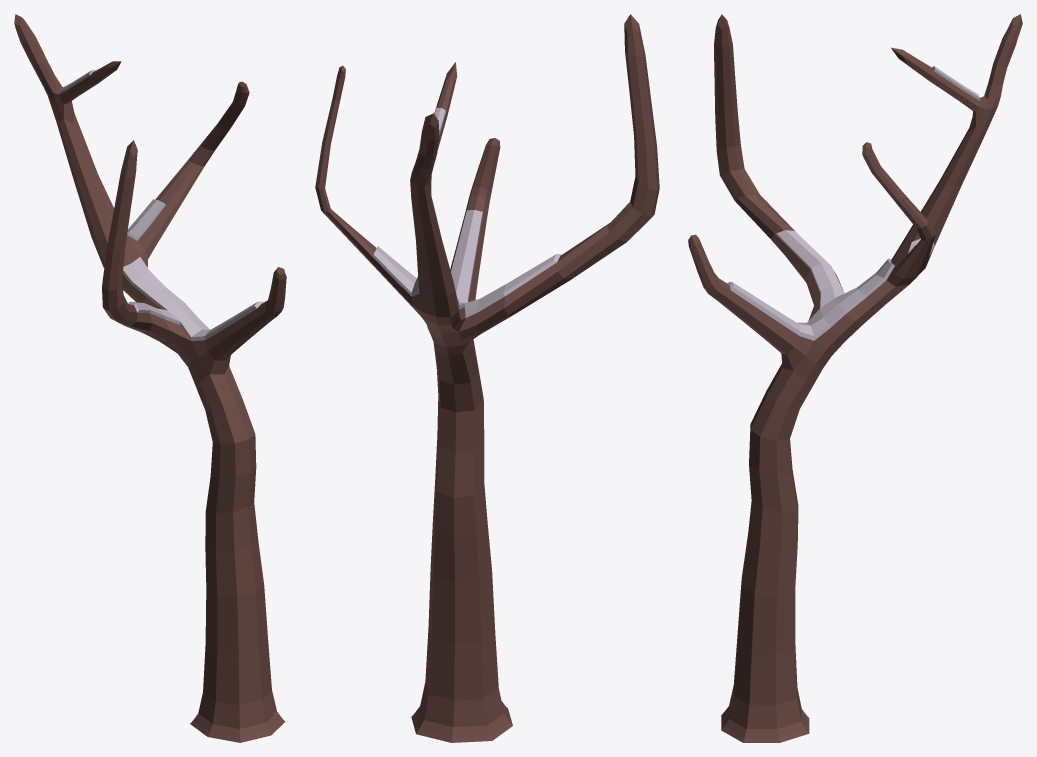
File: CommonTree_Dead_Snow_4.glb
The picture shows the model from 3 angles, left to right: view 1: azimuth 30°, elevation 25°; view 2: azimuth 150°, elevation 25°; view 3: azimuth 270°, elevation 25°; orthographic projection. The views are drawn at different scales.
Parts seen in each view (by area): view 1: CommonTree_Dead_Snow_4; view 2: CommonTree_Dead_Snow_4; view 3: CommonTree_Dead_Snow_4.
Boxes of the visible parts, bbox=[...] form: CommonTree_Dead_Snow_4: bbox=[14, 14, 286, 742]; CommonTree_Dead_Snow_4: bbox=[315, 14, 659, 742]; CommonTree_Dead_Snow_4: bbox=[688, 14, 1022, 742].
Size of the model in its own units: 0.816 by 2.37 by 1.08.
